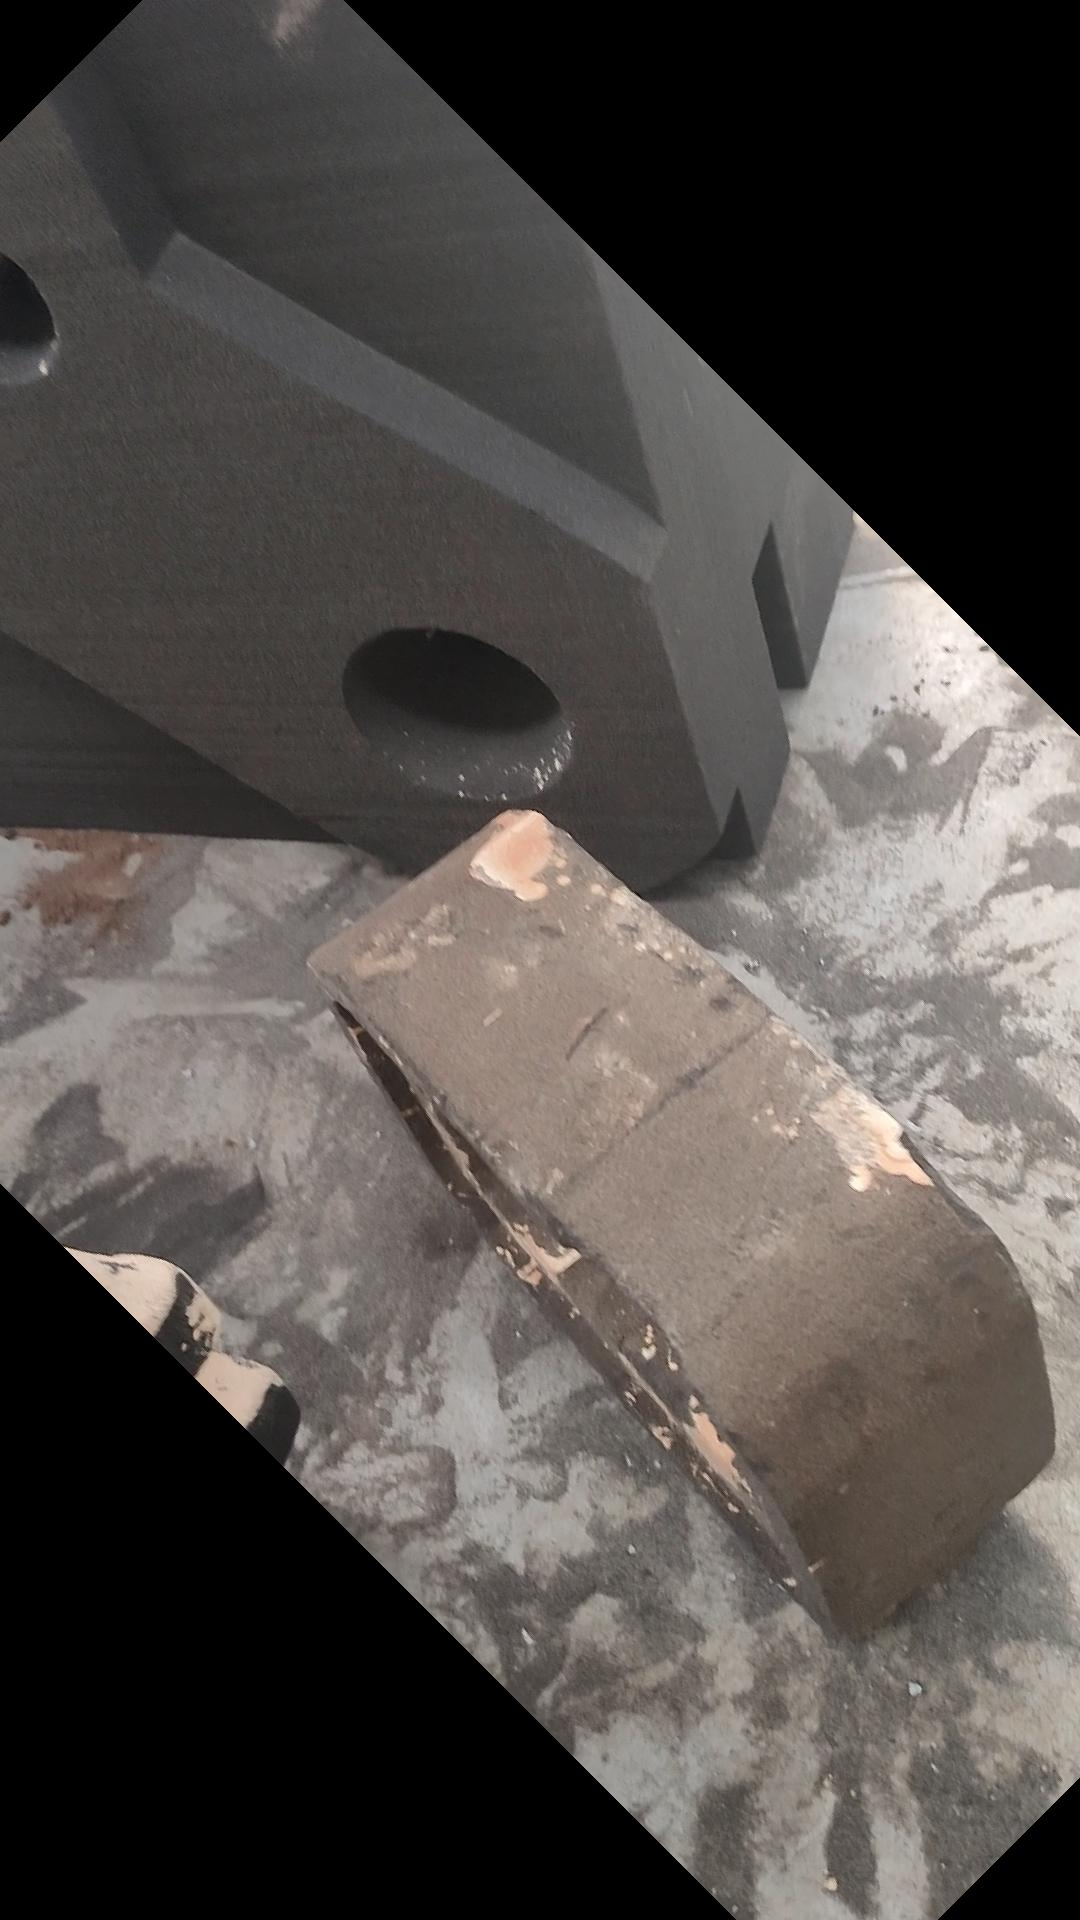pouring hole: (342, 628, 574, 804)
